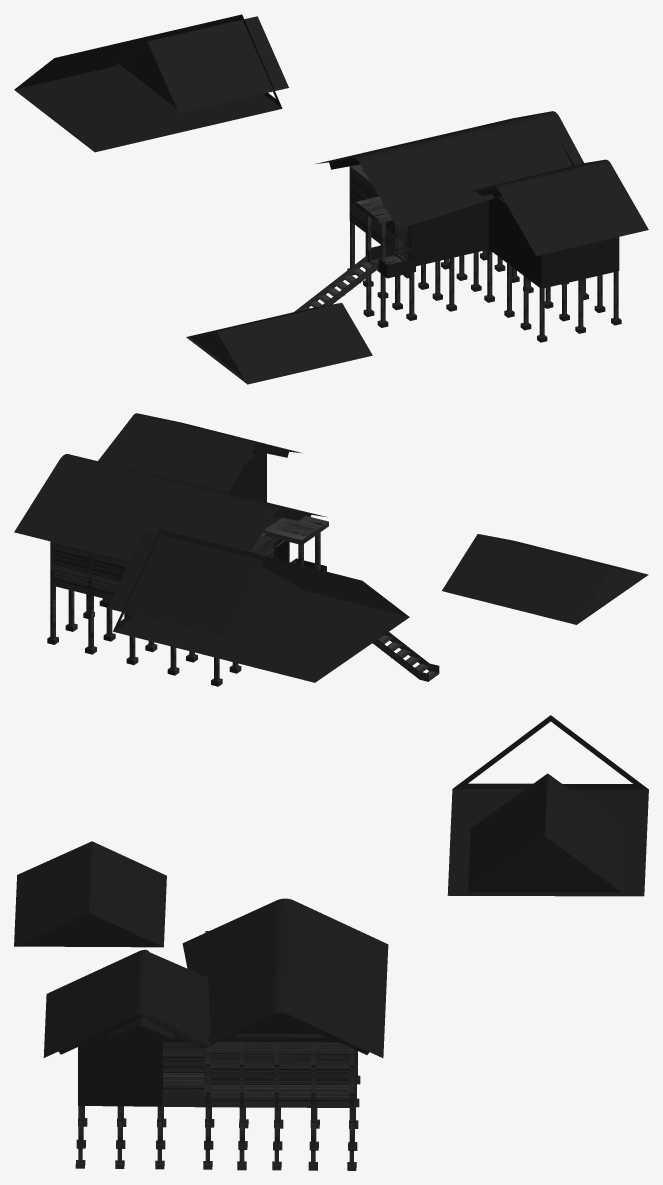
Rendered from Rumah.glb.
3 renders of one model, top to bottom at view 1: azimuth 30°, elevation 25°; view 2: azimuth 150°, elevation 25°; view 3: azimuth 270°, elevation 25°, orthographic. The views are drawn at different scales.
Parts seen in each view (by area): view 1: Atap, Cube.003, Cube, Cube.004, Atap2, Cube.005, Kubus, Kubus.001, Kubus.006; view 2: Atap, Cube.003, Cube.004, Cube.005, Atap2, Cube, Kubus.001, Kubus.012, Kubus.011, Kubus.004, Plane.001; view 3: Atap, Cube, Cube.004, Cube.005, Atap2, Cube.003, Cube.011, Cube.002, Kubus.033, Kubus.027, Kubus.028, Kubus.011 (+1 smaller).
Boxes of the visible parts, <box> form: Atap: <box>314,111,583,229</box>; Cube.003: <box>14,14,282,152</box>; Cube: <box>349,164,619,288</box>; Cube.004: <box>116,16,288,112</box>; Atap2: <box>469,159,648,255</box>; Cube.005: <box>186,303,372,384</box>; Kubus: <box>366,242,415,278</box>; Kubus.001: <box>355,196,392,223</box>; Kubus.006: <box>377,222,388,327</box>; Atap: <box>14,454,327,561</box>; Cube.003: <box>113,529,409,682</box>; Cube.004: <box>107,530,299,637</box>; Cube.005: <box>442,534,648,624</box>; Atap2: <box>98,413,302,492</box>; Cube: <box>53,453,289,600</box>; Kubus.001: <box>263,516,328,544</box>; Kubus.012: <box>85,551,96,654</box>; Kubus.011: <box>47,541,58,644</box>; Kubus.004: <box>372,635,439,680</box>; Plane.001: <box>372,639,428,681</box>; Atap: <box>182,898,388,1057</box>; Cube: <box>78,1034,356,1107</box>; Cube.004: <box>468,773,624,892</box>; Cube.005: <box>14,841,166,947</box>; Atap2: <box>43,950,210,1057</box>; Cube.003: <box>447,715,648,896</box>; Cube.011: <box>107,1017,174,1039</box>; Cube.002: <box>219,1015,338,1042</box>; Kubus.033: <box>237,1043,246,1170</box>; Kubus.027: <box>272,1044,281,1170</box>; Kubus.028: <box>308,1044,317,1170</box>; Kubus.011: <box>347,1047,356,1170</box>.
Bounding box in the file's own units: 239 × 112 × 265.
42 materials, 42 textured.
